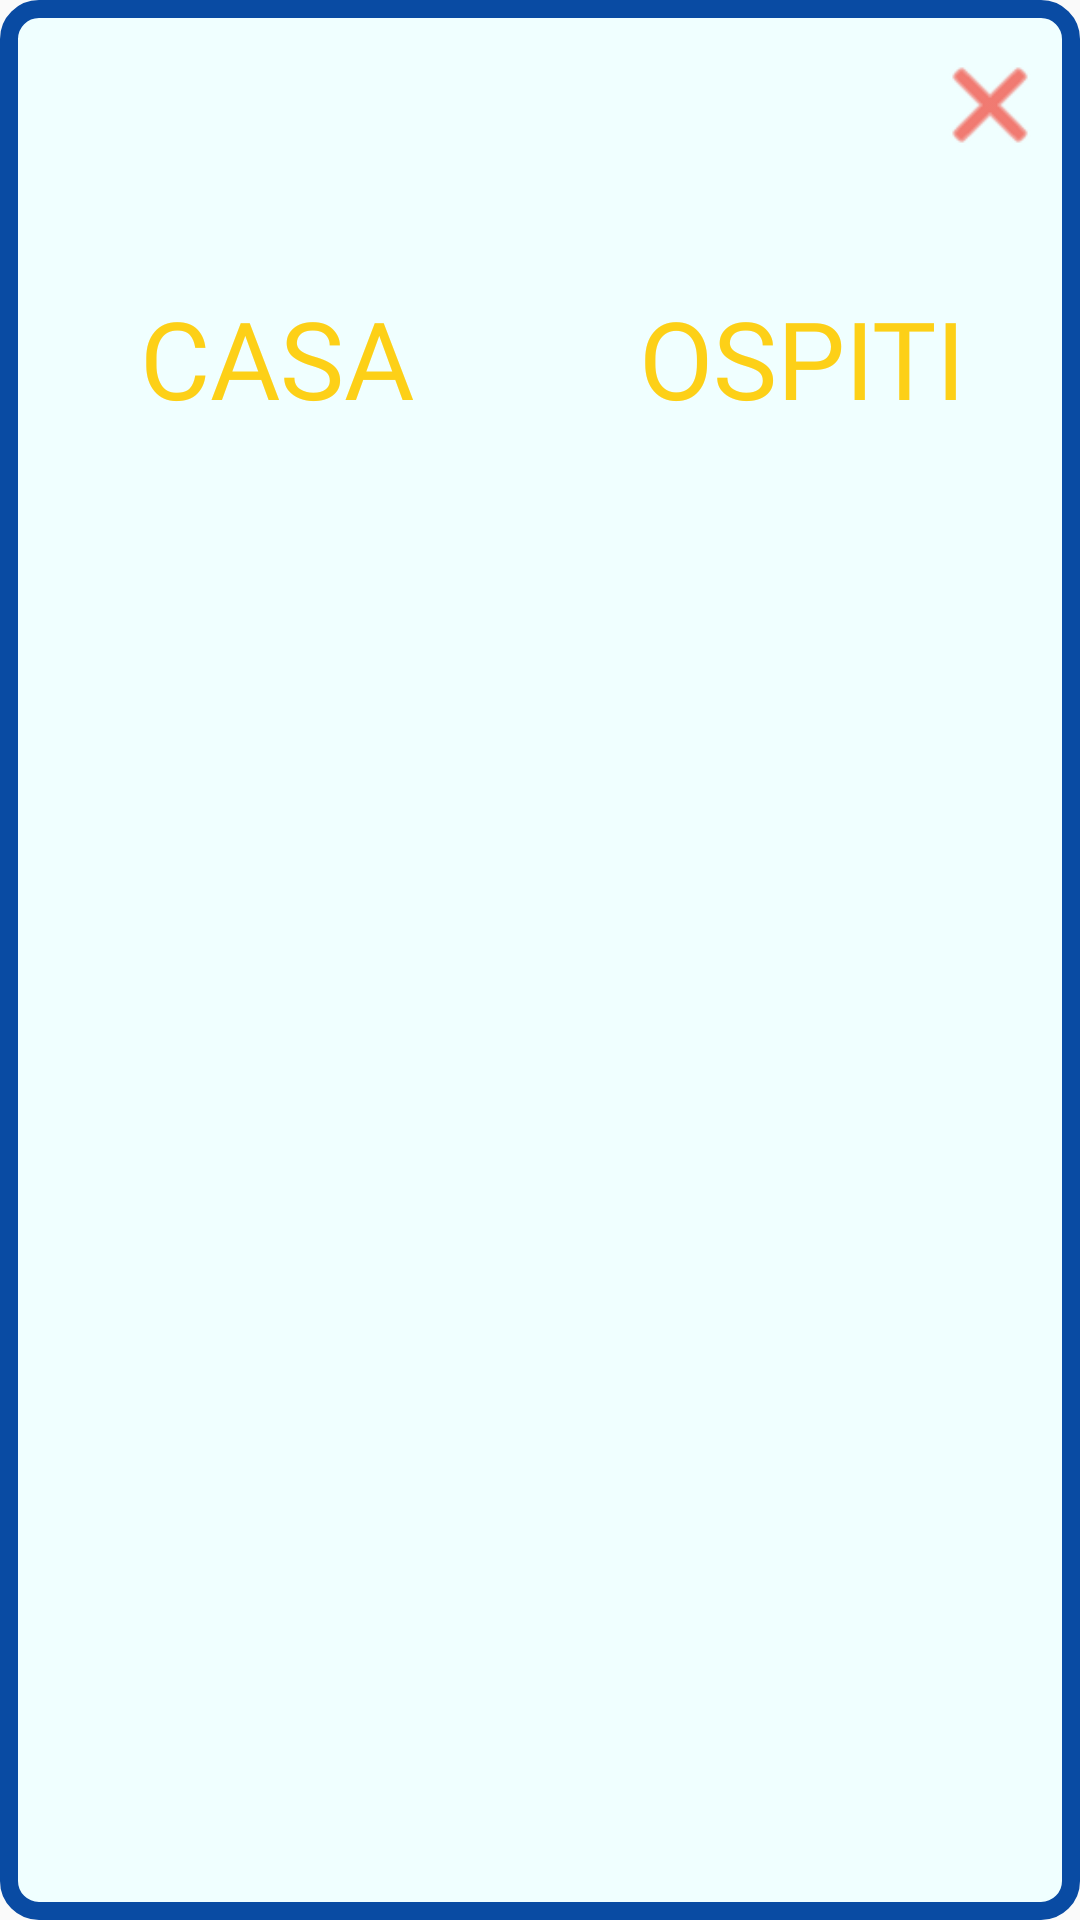

Icons on this 1080×1920 Android screen, each with the point to tap as point (x, y):
close clear cancel: point (990, 105)
